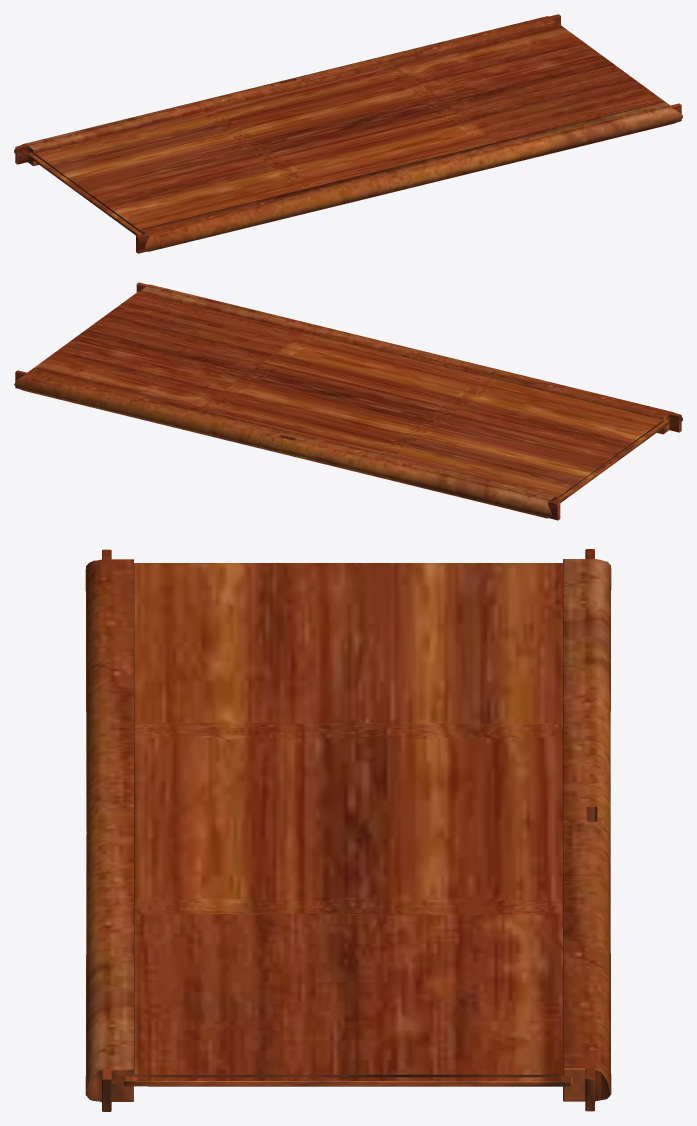
Rendered from SJ_J_H_cengban_02_1.FBX.
3 views of the same model, one above another, from view 1: azimuth 30°, elevation 25°; view 2: azimuth 150°, elevation 25°; view 3: azimuth 270°, elevation 25° (orthographic). The views are drawn at different scales.
Parts seen in each view (by area): view 1: SJ_J_H_cengban_02_1; view 2: SJ_J_H_cengban_02_1; view 3: SJ_J_H_cengban_02_1.
Part boxes in pixels (left/top/right/bottom): SJ_J_H_cengban_02_1: left=14, top=14, right=682, bottom=253; SJ_J_H_cengban_02_1: left=14, top=282, right=682, bottom=520; SJ_J_H_cengban_02_1: left=85, top=549, right=611, bottom=1111.
Bounding box in the file's own units: 103 × 3.08 × 43.06.
